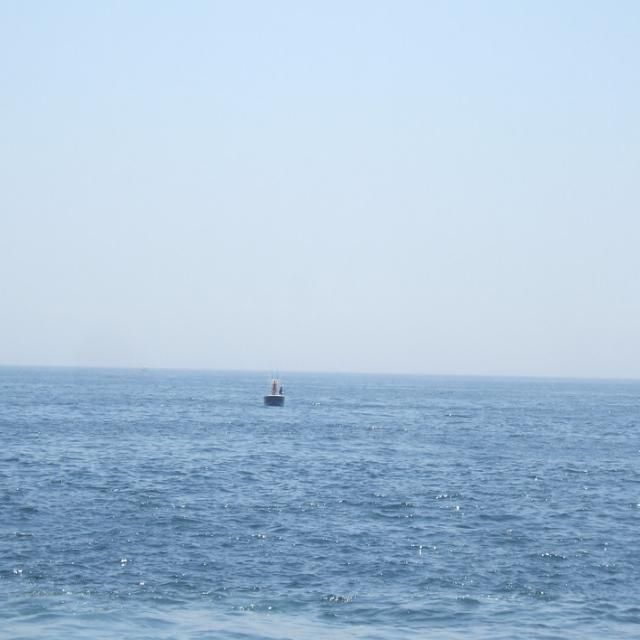buoy: (261, 366, 290, 409)
